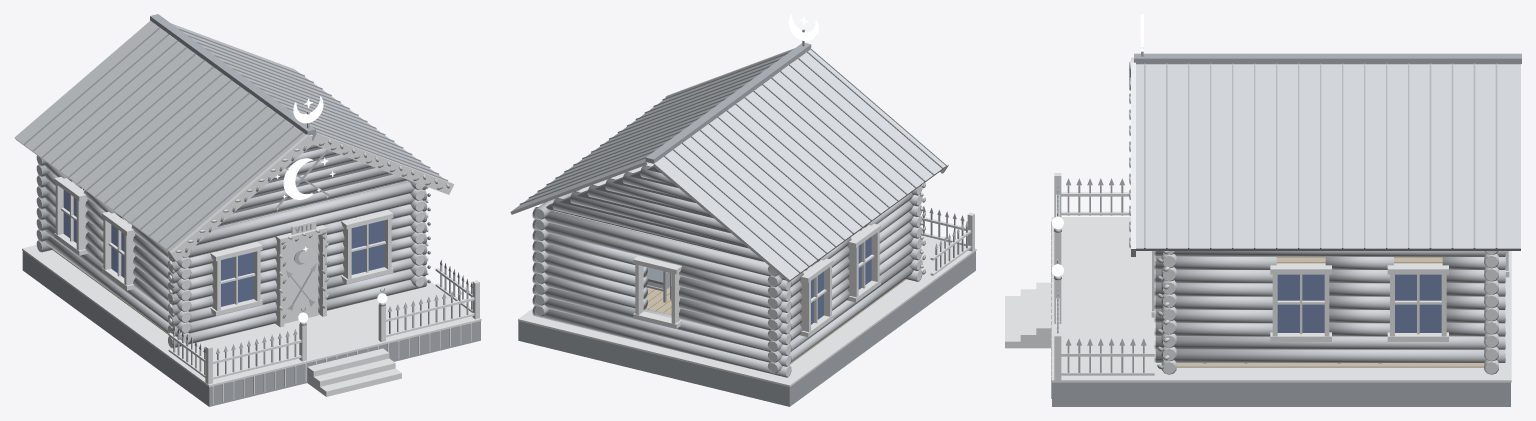
Rendered from artemis_cabin.glb.
The picture shows the model from 3 angles, left to right: view 1: azimuth 30°, elevation 25°; view 2: azimuth 150°, elevation 25°; view 3: azimuth 270°, elevation 25°; orthographic projection. The views are drawn at different scales.
Visible parts, largest first — view 1: ART_metal_roof, ART_white, ART_log_silver, ART_roof_seam, ART_deck, ART_window, ART_silver, DOOR_leaf_L, ART_log_end, ART_wall_back, ART_moon, ART_silver_leaf_dim (+1 smaller); view 2: ART_log_silver, ART_metal_roof, ART_white, ART_roof_seam, ART_deck, ART_log_end, ART_wall_back, ART_window, ART_silver, INT_birch, INT_white; view 3: ART_metal_roof, ART_white, ART_log_silver, ART_deck, ART_roof_seam, ART_window, ART_log_end, INT_birch, ART_silver.
Boxes of the visible parts, x1,y1,x2,y2 form: ART_metal_roof: (14, 21, 443, 252); ART_white: (22, 132, 481, 404); ART_log_silver: (36, 42, 426, 348); ART_roof_seam: (24, 14, 447, 249); ART_deck: (22, 251, 480, 406); ART_window: (63, 190, 384, 306); ART_silver: (173, 111, 472, 375); DOOR_leaf_L: (284, 235, 318, 323); ART_log_end: (37, 156, 427, 347); ART_wall_back: (192, 51, 408, 226); ART_moon: (283, 96, 323, 199); ART_silver_leaf_dim: (171, 142, 442, 345); ART_log_silver: (532, 72, 922, 377); ART_metal_roof: (510, 49, 945, 282); ART_white: (518, 46, 976, 387); ART_roof_seam: (519, 43, 943, 273); ART_deck: (518, 251, 975, 406); ART_log_end: (532, 185, 921, 376); ART_wall_back: (546, 81, 766, 261); ART_window: (811, 236, 871, 324); ART_silver: (802, 29, 968, 270); INT_birch: (646, 260, 906, 364); INT_white: (552, 124, 764, 262); ART_metal_roof: (1136, 64, 1520, 250); ART_white: (1005, 57, 1511, 398); ART_log_silver: (1155, 251, 1505, 374); ART_deck: (1052, 382, 1510, 406); ART_roof_seam: (1134, 53, 1521, 248); ART_window: (1277, 274, 1441, 332); ART_log_end: (1154, 251, 1505, 373); INT_birch: (1176, 257, 1484, 367); ART_silver: (1053, 51, 1146, 372).
Size of what is drawn, in the model's own units: 8.22 by 6.9 by 10.58.
